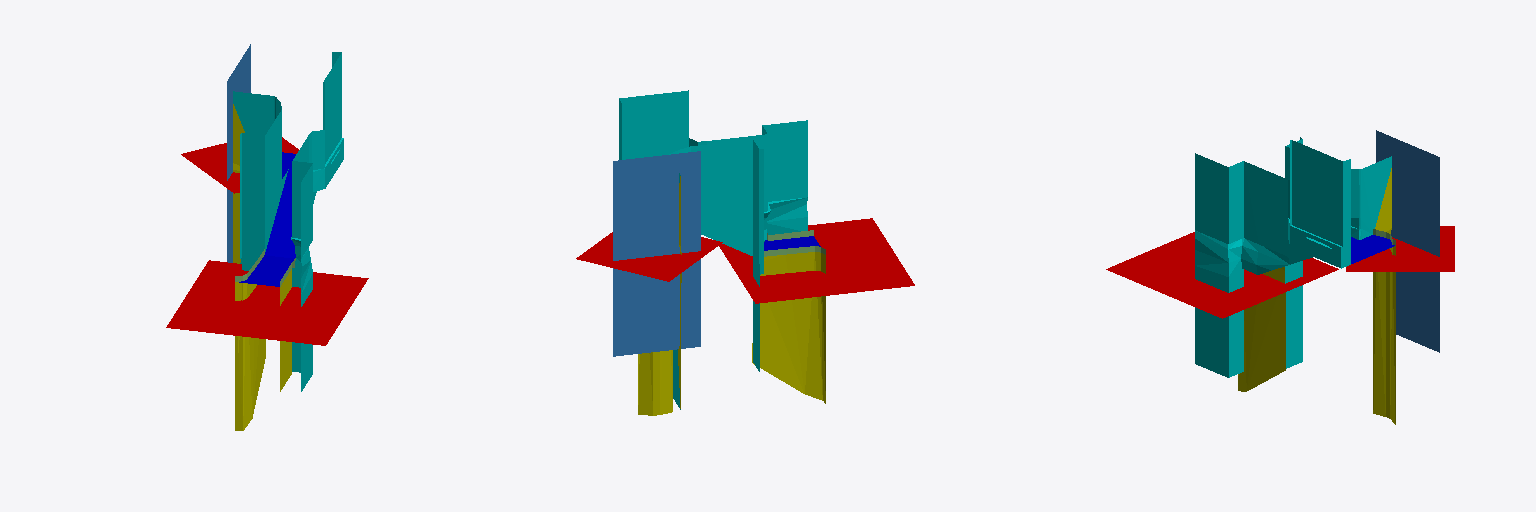
File: STG0100_COLI_10.OBJ
The picture shows the model from 3 angles: view 1: azimuth 30°, elevation 25°; view 2: azimuth 150°, elevation 25°; view 3: azimuth 270°, elevation 25°; orthographic projection.
Parts seen in each view (by area): view 1: STG0100_COLI_10_[number redacted], STG0100_COLI_10_[number redacted], STG0100_COLI_10_[number redacted], STG0100_COLI_10_[number redacted], STG0100_COLI_10_[number redacted]; view 2: STG0100_COLI_10_[number redacted], STG0100_COLI_10_[number redacted], STG0100_COLI_10_[number redacted], STG0100_COLI_10_[number redacted], STG0100_COLI_10_[number redacted]; view 3: STG0100_COLI_10_[number redacted], STG0100_COLI_10_[number redacted], STG0100_COLI_10_[number redacted], STG0100_COLI_10_[number redacted], STG0100_COLI_10_[number redacted].
Part boxes in pixels (left/top/right/bottom): STG0100_COLI_10_[number redacted]: left=233, top=52, right=343, bottom=391; STG0100_COLI_10_[number redacted]: left=166, top=137, right=368, bottom=345; STG0100_COLI_10_[number redacted]: left=233, top=104, right=291, bottom=430; STG0100_COLI_10_[number redacted]: left=239, top=152, right=295, bottom=286; STG0100_COLI_10_[number redacted]: left=227, top=44, right=250, bottom=262; STG0100_COLI_10_[number redacted]: left=619, top=90, right=807, bottom=409; STG0100_COLI_10_[number redacted]: left=613, top=151, right=700, bottom=356; STG0100_COLI_10_[number redacted]: left=576, top=218, right=914, bottom=303; STG0100_COLI_10_[number redacted]: left=638, top=176, right=825, bottom=415; STG0100_COLI_10_[number redacted]: left=764, top=230, right=825, bottom=256; STG0100_COLI_10_[number redacted]: left=1195, top=137, right=1391, bottom=377; STG0100_COLI_10_[number redacted]: left=1106, top=226, right=1454, bottom=318; STG0100_COLI_10_[number redacted]: left=1376, top=130, right=1439, bottom=352; STG0100_COLI_10_[number redacted]: left=1238, top=168, right=1395, bottom=424; STG0100_COLI_10_[number redacted]: left=1351, top=235, right=1394, bottom=263.
Size of the model in its own units: 1270 by 1552 by 1617.